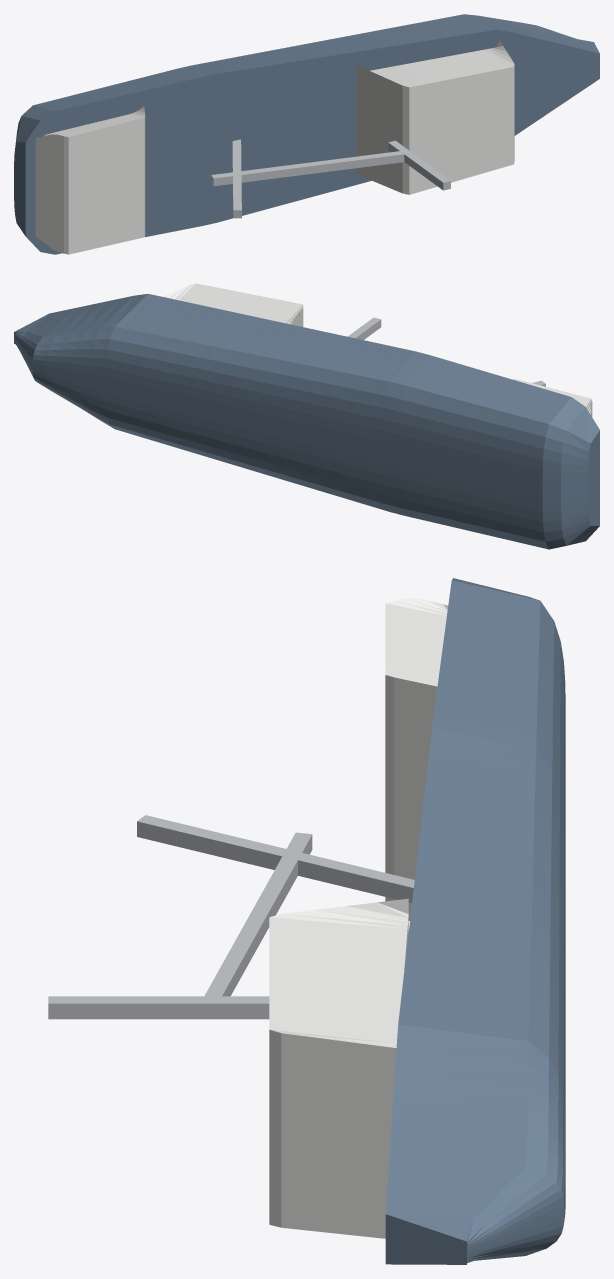
File: seiner-loft.glb
3 views of the same model, one above another, from view 1: azimuth 30°, elevation 25°; view 2: azimuth 150°, elevation 25°; view 3: azimuth 270°, elevation 25° (orthographic). The views are drawn at different scales.
Visible parts, largest first — view 1: seiner; view 2: seiner; view 3: seiner.
Boxes of the visible parts, x1,y1,x2,y2 form: seiner: [14, 14, 599, 254]; seiner: [14, 283, 599, 549]; seiner: [48, 578, 565, 1264].
Bounding box in the file's own units: 1.84 × 0.4589 × 0.7216.
